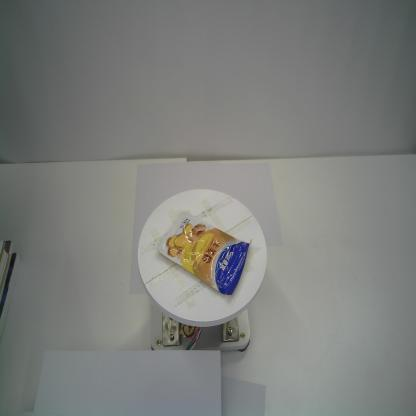Seasoner: (155, 209, 253, 296)
